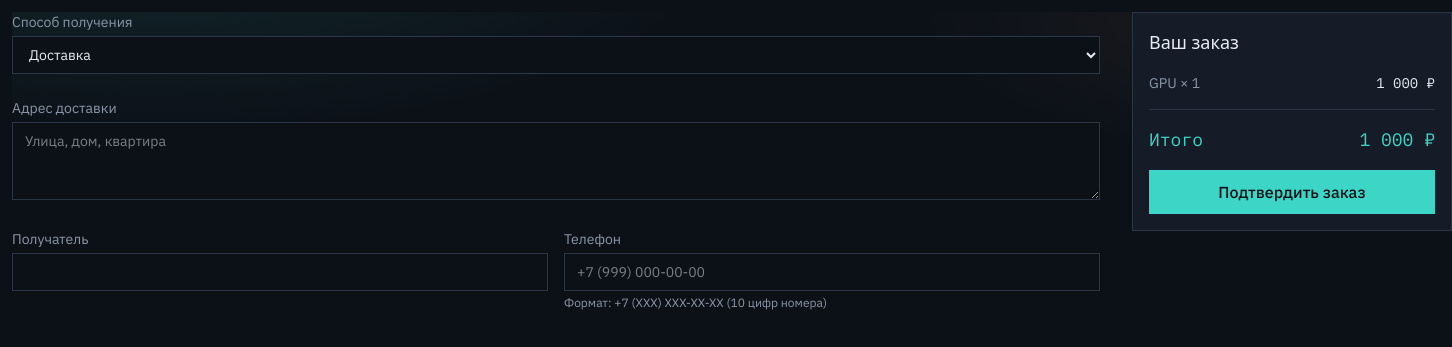
Test: CheckoutForm › показывает ошибки общих полей и не вызывает сервер
Click the button with test id "checkout-submit": (1292, 192) [1149,170,1435,214]
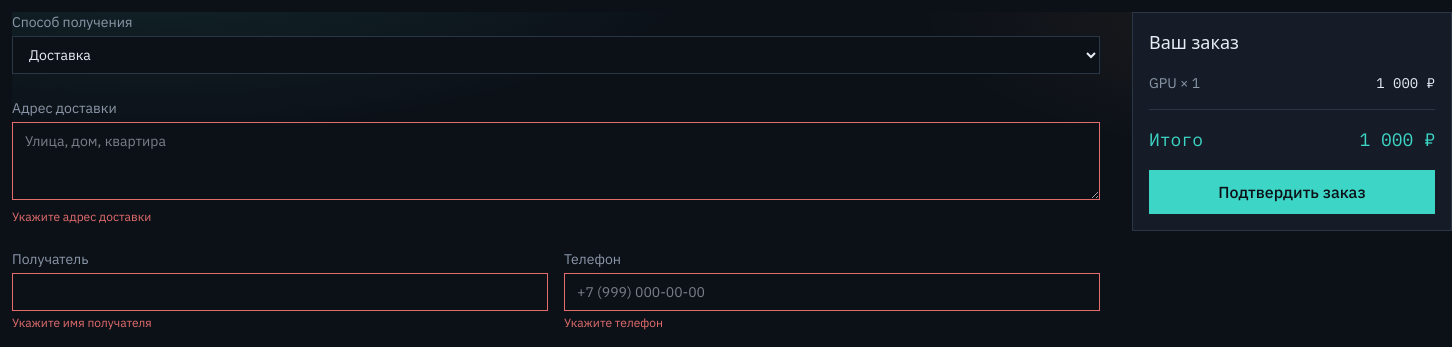
Now the text "Укажите имя получателя" is shown, box [12,315,152,330]
Now the text "Укажите телефон" is shown, box [564,315,663,330]
Now the text "Укажите адрес доставки" is shown, box [12,209,151,224]
